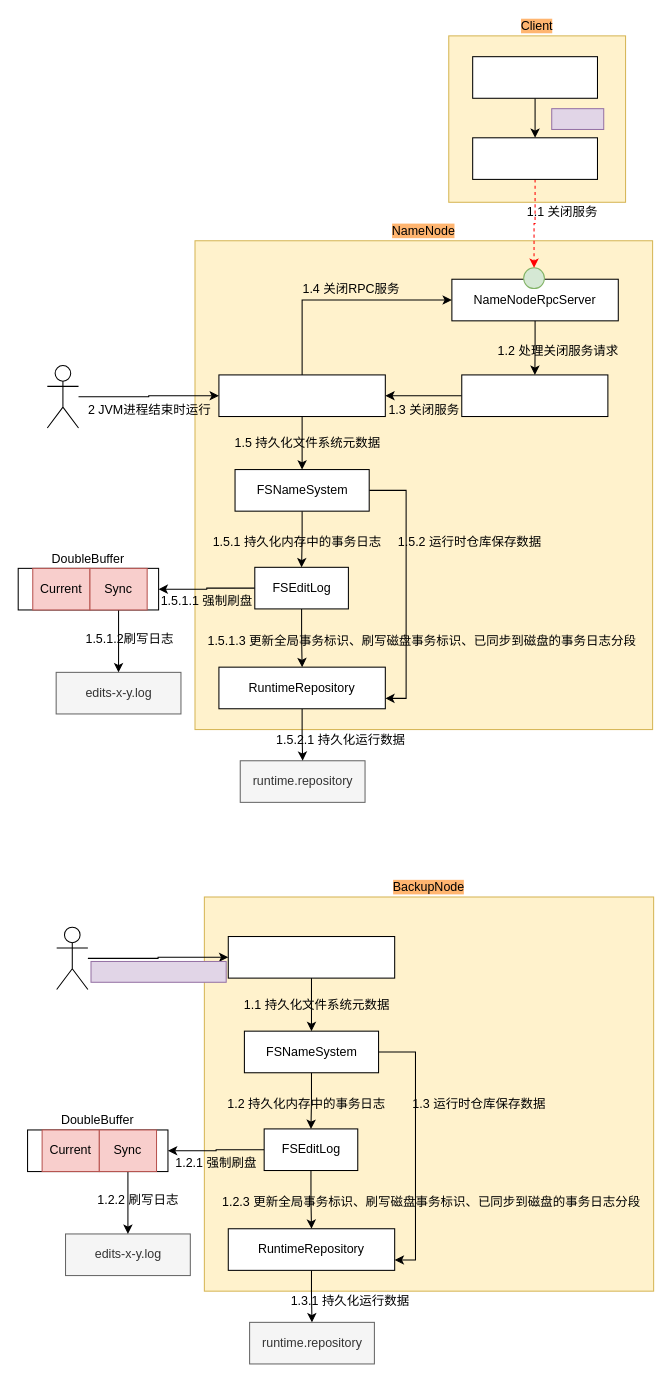
Some shapes in this 672 by 1382 pixel diagram are drawn without their labels. The shapes that lost their labels are listed below. From the top down, each one's centre as x and y in pixels, then its label:
At point (534, 77): "FileSystemImpl".
At point (577, 118): "1 停机".
At point (534, 158): "NameNodeRpcClient".
At point (301, 395): "NameNodeServer".
At point (534, 395): "NameNodeRpcService".
At point (158, 971): "1 JVM进程结束时运行".
At point (311, 956): "BackupNodeServer".
